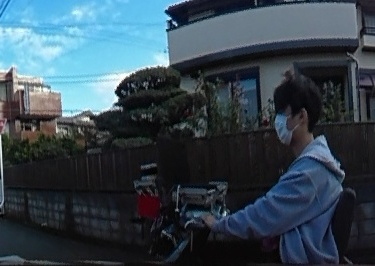person: (257, 74, 342, 266)
